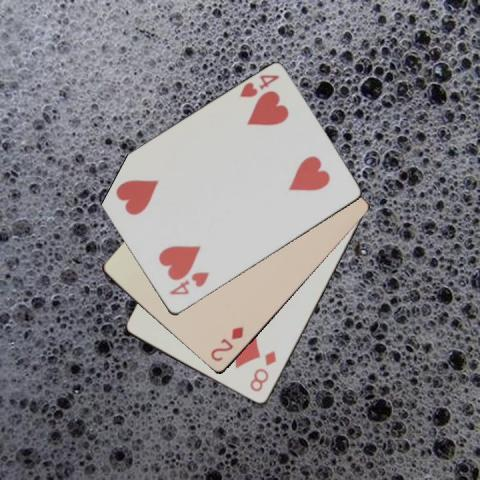2d: (207, 324, 246, 363)
4h: (166, 269, 211, 297), (236, 72, 280, 99)
8d: (247, 348, 278, 394)
